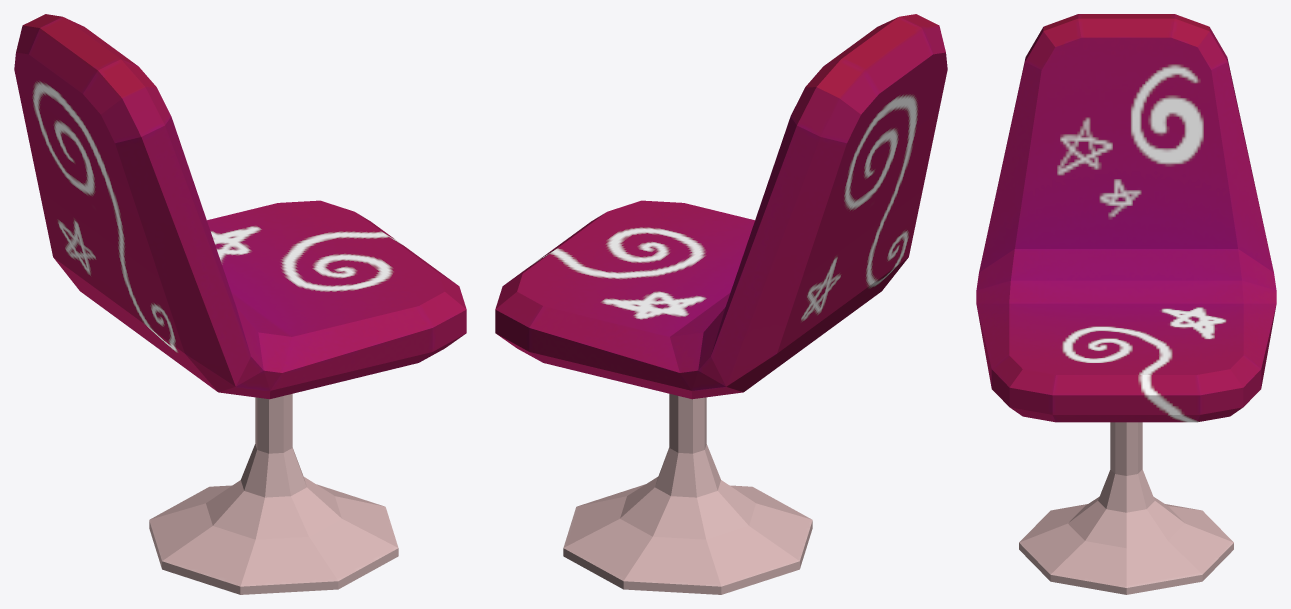
The model's file is PROP_068_DiningChair.fbx.
3 renders of one model, left to right at view 1: azimuth 30°, elevation 25°; view 2: azimuth 150°, elevation 25°; view 3: azimuth 270°, elevation 25°, orthographic. The views are drawn at different scales.
Visible parts, largest first — view 1: Asiento_005; view 2: Asiento_005; view 3: Asiento_005.
Boxes of the visible parts, x1,y1,x2,y2 form: Asiento_005: (14, 14, 466, 594); Asiento_005: (495, 14, 947, 594); Asiento_005: (976, 14, 1276, 594).
Bounding box in the file's own units: 0.9286 × 1.36 × 0.8073.
Materials: 1 (1 with a texture image).
